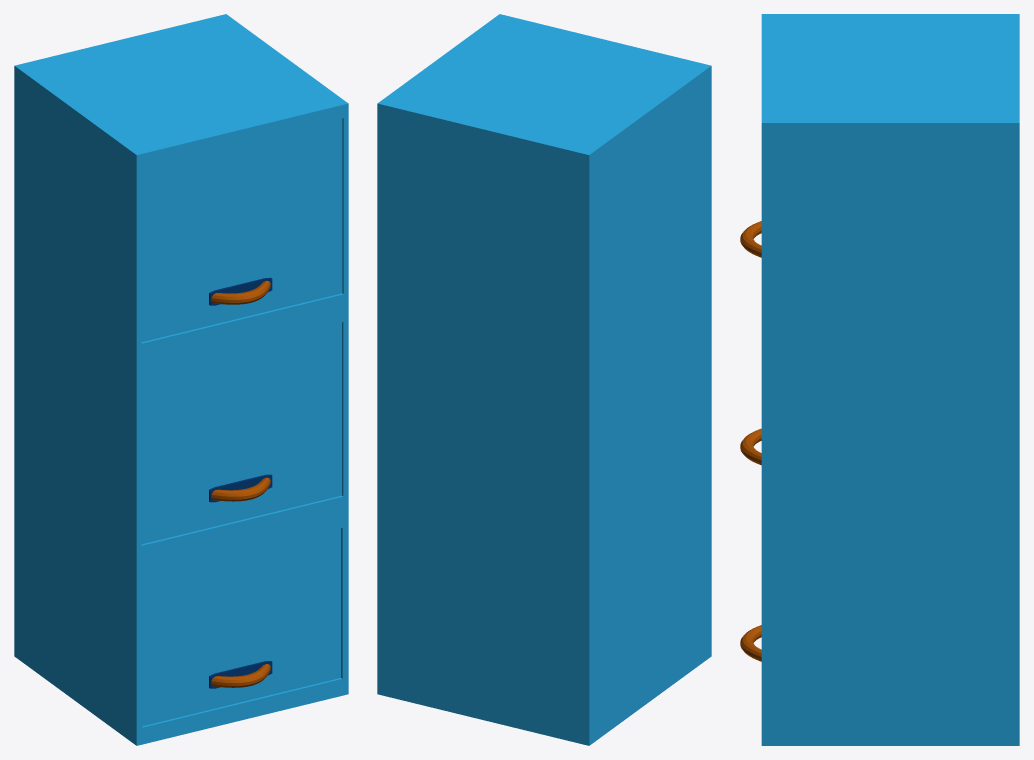
The model's file is Drawer.fbx.
The picture shows the model from 3 angles, left to right: view 1: azimuth 30°, elevation 25°; view 2: azimuth 150°, elevation 25°; view 3: azimuth 270°, elevation 25°; orthographic projection. The views are drawn at different scales.
Parts seen in each view (by area): view 1: Cube, Cylinder, Cylinder.001, Cylinder.002; view 2: Cube; view 3: Cube, Cylinder, Cylinder.001, Cylinder.002.
Boxes of the visible parts, x1,y1,x2,y2 form: Cube: [14, 14, 348, 745]; Cylinder: [211, 477, 270, 501]; Cylinder.001: [211, 664, 270, 687]; Cylinder.002: [211, 280, 270, 304]; Cube: [377, 14, 711, 745]; Cube: [761, 14, 1019, 745]; Cylinder: [740, 428, 761, 465]; Cylinder.001: [740, 625, 761, 661]; Cylinder.002: [740, 221, 761, 257].
Bounding box in the file's own units: 200 × 533 × 216.
